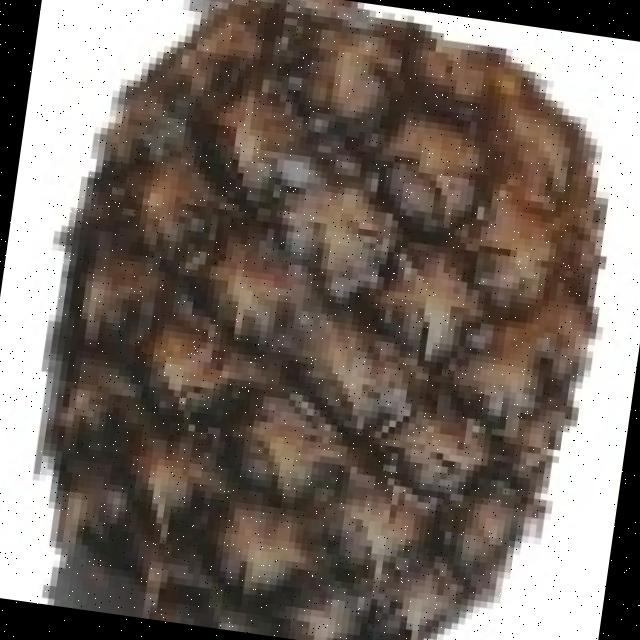pineapple: (38, 0, 606, 640)
